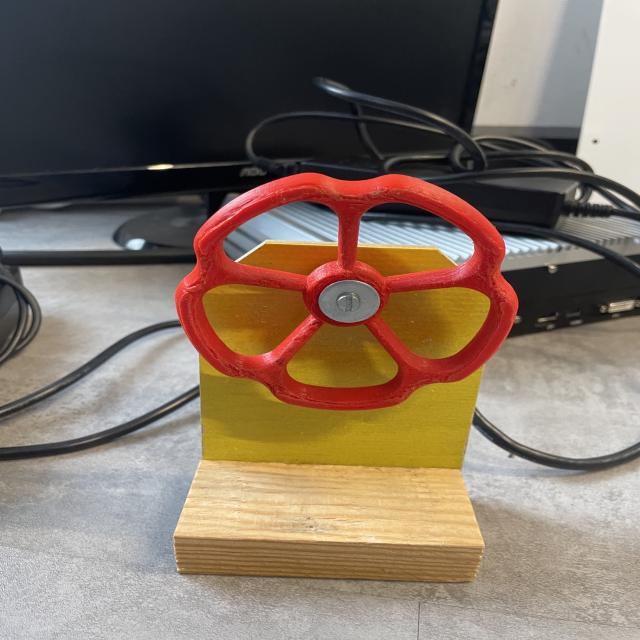Wheel Handle Valve Threaded: (173, 170, 520, 412)
